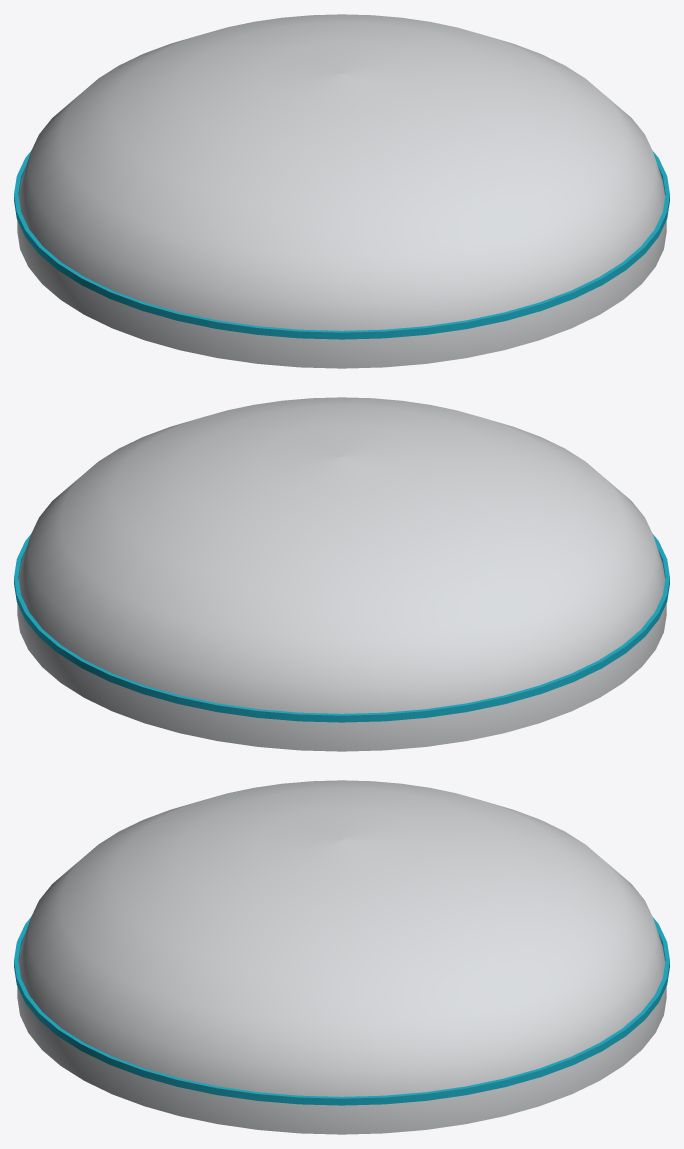
File: c1_feeder.obj
The picture shows the model from 3 angles, top to bottom: view 1: azimuth 30°, elevation 25°; view 2: azimuth 150°, elevation 25°; view 3: azimuth 270°, elevation 25°; orthographic projection.
Parts seen in each view (by area): view 1: c1_feeder; view 2: c1_feeder; view 3: c1_feeder.
Boxes of the visible parts, x1=… form: c1_feeder: x1=14, y1=14, x2=669, y2=368; c1_feeder: x1=14, y1=397, x2=669, y2=751; c1_feeder: x1=14, y1=780, x2=669, y2=1134.
Size of the model in its own units: 1.21 by 0.401 by 1.21.
